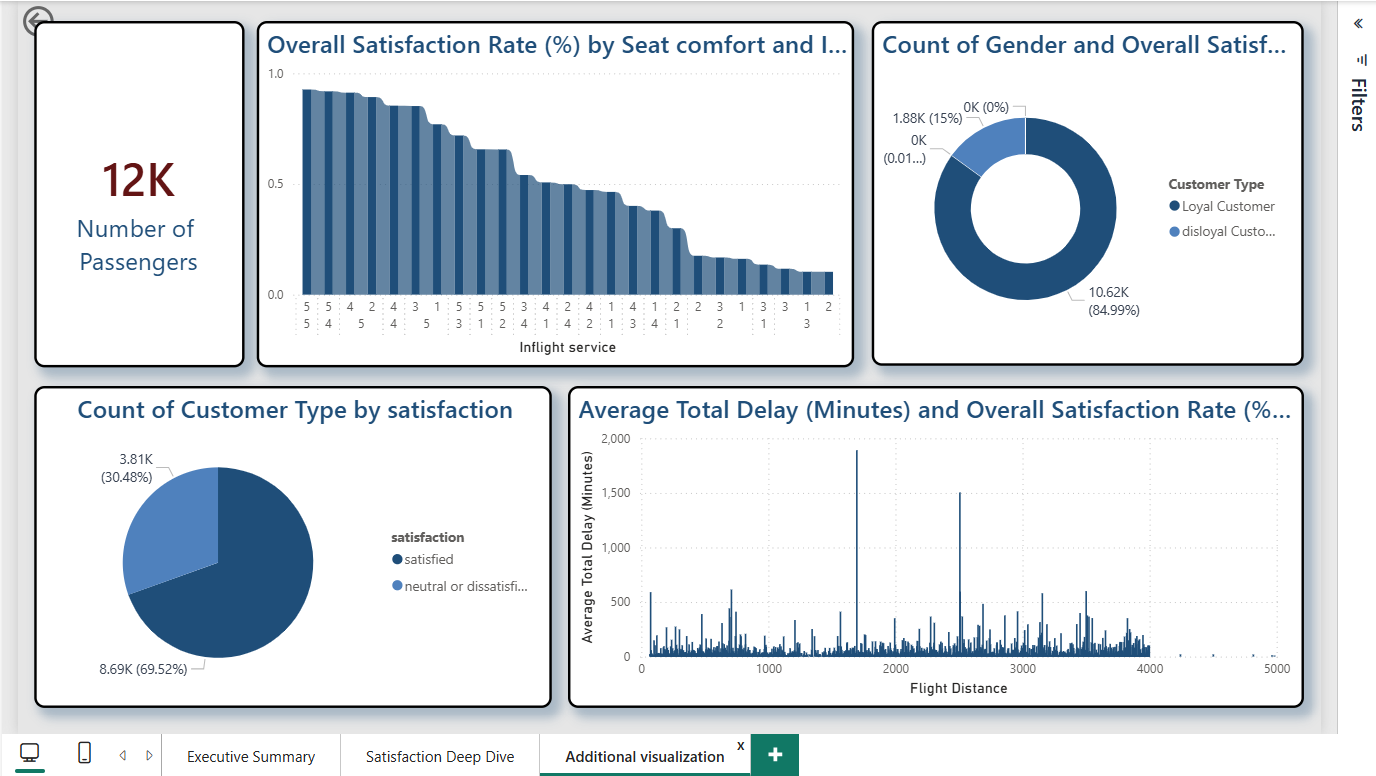

What the dashboard file says about the page in this screenshot:
{"tool":"powerbi","page":{"name":"Additional visualization","canvas":[1280,720],"ordinal":2},"visuals":[{"type":"actionButton","box":[0,0,100,40],"z":0},{"type":"card","fields":{"Values":["Fact_Satisfaction.Number of Passengers"]},"box":[16,20,206,340],"z":1000},{"type":"pieChart","fields":{"Category":["Dim_Service.satisfaction"],"Y":["CountNonNull(Dim_Passenger.Customer Type)"]},"box":[16,378,508,316],"z":2000},{"type":"ribbonChart","fields":{"Category":["Fact_Satisfaction.Seat comfort","Dim_Service.Inflight service"],"Y":["Fact_Satisfaction.Overall Satisfaction Rate (%)"]},"box":[234,20,586,340],"z":3000},{"type":"donutChart","fields":{"Category":["Dim_Passenger.Customer Type","Dim_Flight.Type of Travel"],"Y":["CountNonNull(Dim_Passenger.Gender)","Fact_Satisfaction.Overall Satisfaction Rate (%)"]},"box":[838,20,424,338],"z":4000},{"type":"lineClusteredColumnComboChart","fields":{"Category":["Dim_Flight.Flight Distance"],"Y":["Fact_Satisfaction.Average Total Delay (Minutes)"]},"box":[540,378,722,316],"z":5000}]}

Visuals, with their boxes in screenshot pixels (x1, y1, x2, y2):
actionButton: [11,0,113,37]
card - Fact_Satisfaction.Number of Passengers: [27,17,238,365]
pieChart - Dim_Service.satisfaction x CountNonNull(Dim_Passenger.Customer Type): [27,383,547,706]
ribbonChart - Fact_Satisfaction.Seat comfort x Dim_Service.Inflight service: [250,17,849,365]
donutChart - Dim_Passenger.Customer Type x Dim_Flight.Type of Travel: [868,17,1301,362]
lineClusteredColumnComboChart - Dim_Flight.Flight Distance x Fact_Satisfaction.Average Total Delay (Minutes): [563,383,1301,706]
